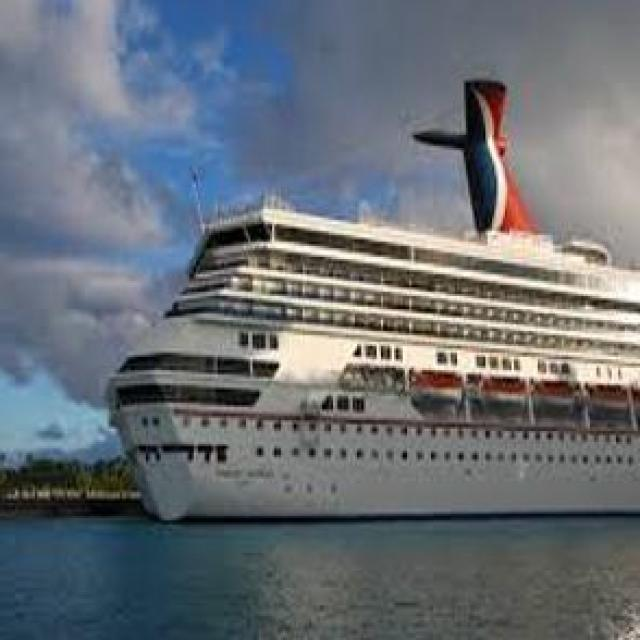passenger ship: (109, 194, 639, 530)
